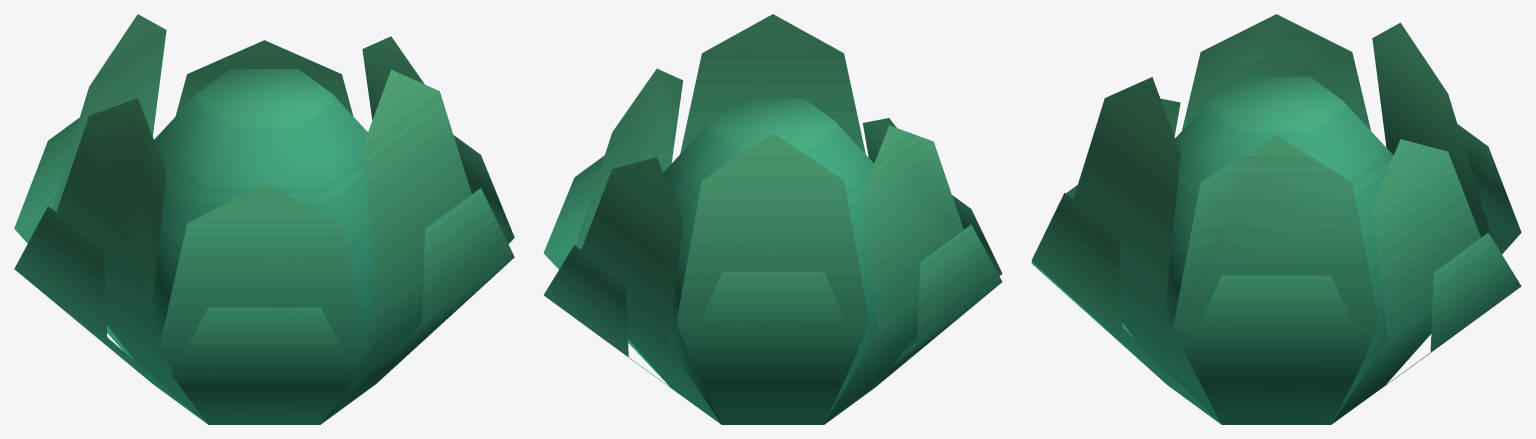
The model's file is cabbage.glb.
3 views of the same model, side by side, from view 1: azimuth 30°, elevation 25°; view 2: azimuth 150°, elevation 25°; view 3: azimuth 270°, elevation 25° (orthographic). The views are drawn at different scales.
Parts seen in each view (by area): view 1: cabbage; view 2: cabbage; view 3: cabbage.
Boxes of the visible parts, x1,y1,x2,y2 form: cabbage: (14, 14, 514, 424); cabbage: (543, 14, 1002, 424); cabbage: (1031, 14, 1521, 424).
Size of the model in its own units: 0.3795 by 0.3074 by 0.4036.
Materials: 1 (1 with a texture image).
